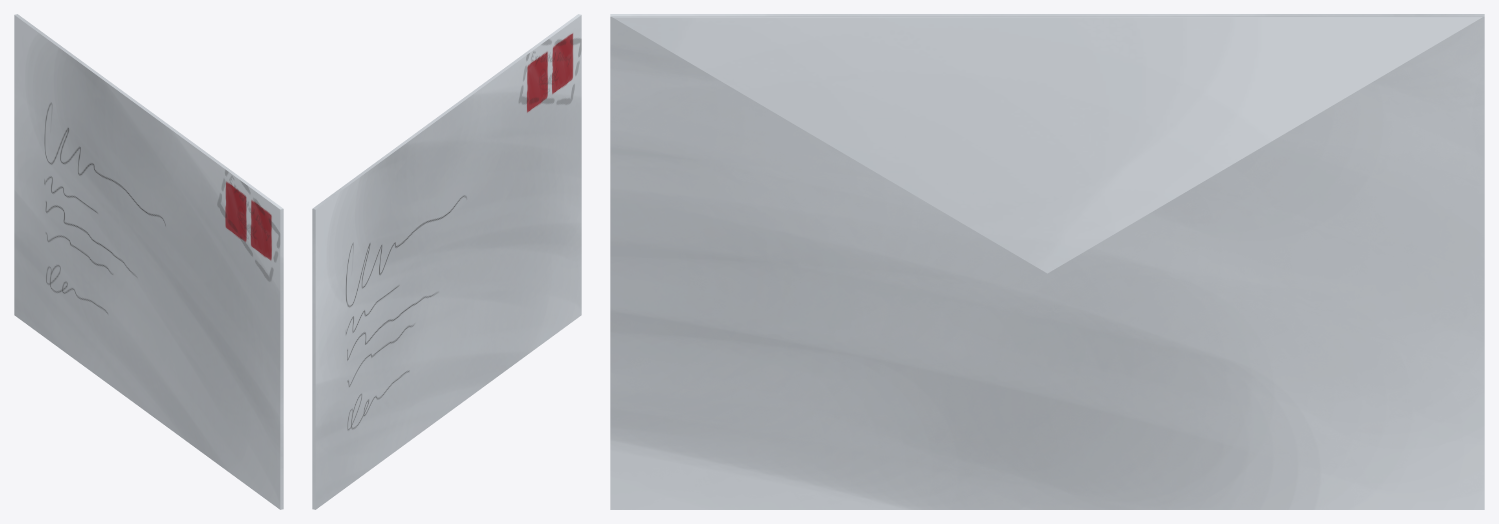
The model's file is letter.glb.
3 views of the same model, side by side, from view 1: azimuth 30°, elevation 25°; view 2: azimuth 150°, elevation 25°; view 3: azimuth 270°, elevation 25° (orthographic). The views are drawn at different scales.
Parts seen in each view (by area): view 1: Cube; view 2: Cube; view 3: Cube, Plane.
Part boxes in pixels (box(x1,y1,x2,y2)): Cube: box(14, 14, 283, 509); Cube: box(312, 14, 581, 509); Cube: box(610, 14, 1484, 509); Plane: box(612, 17, 1482, 273).
Size of the model in its own units: 0.0509 by 0.8572 by 1.38.
1 material, 1 textured.
